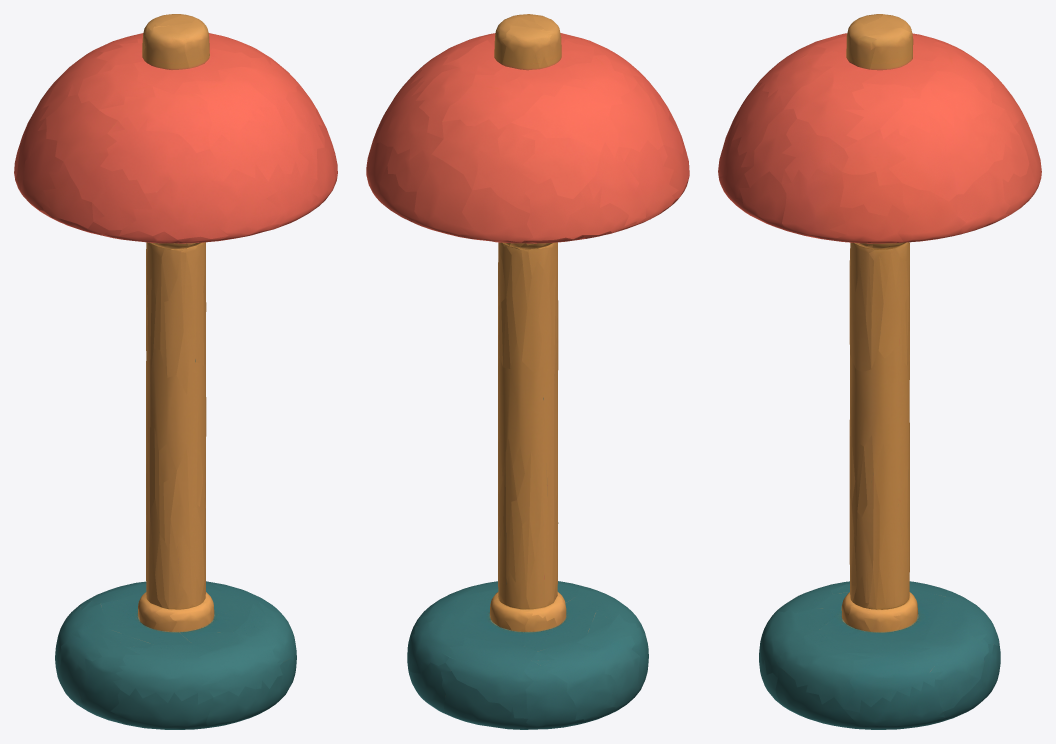
File: restaurant-floor-lamp.glb
3 views of the same model, side by side, from view 1: azimuth 30°, elevation 25°; view 2: azimuth 150°, elevation 25°; view 3: azimuth 270°, elevation 25° (orthographic).
Parts seen in each view (by area): view 1: Mesh_0; view 2: Mesh_0; view 3: Mesh_0.
Boxes of the visible parts, left/top/right/bottom form: Mesh_0: left=14, top=14, right=337, bottom=729; Mesh_0: left=366, top=14, right=689, bottom=729; Mesh_0: left=718, top=14, right=1041, bottom=729.
Bounding box in the file's own units: 0.65 × 1.47 × 0.6499.
Materials: 1 (1 with a texture image).
